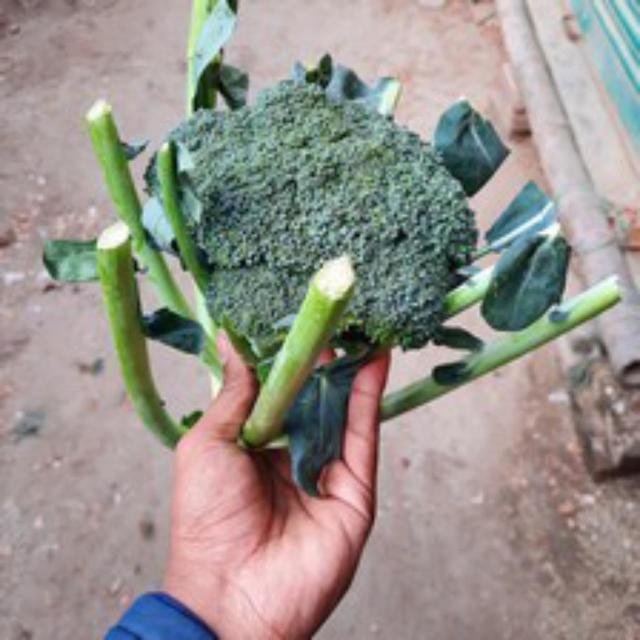broccoli: (152, 67, 470, 420)
